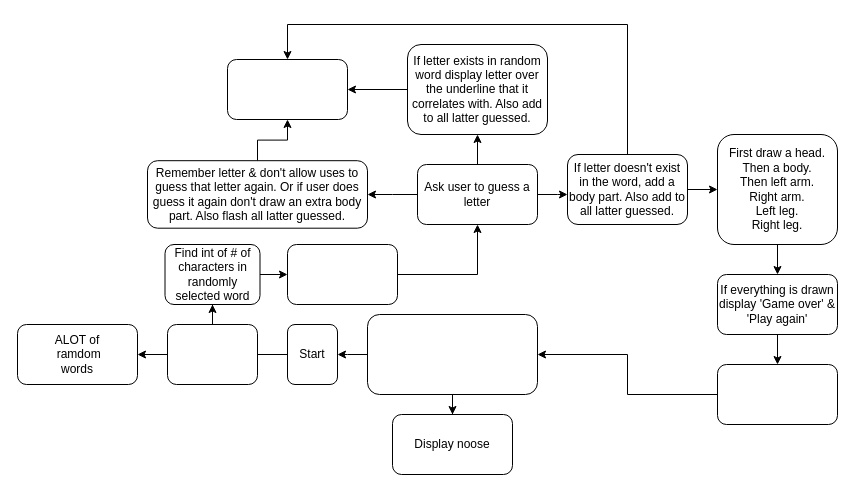
The diagram is 855 pixels wide and 492 high, and some of its shapes have lost their labels. The box of each missing label's shape, as (x1, y1, x2, y2) in pixels:
All letter guessed.: (226, 58, 348, 120)
Choose one: (166, 324, 258, 384)
Display the number of characters as line underneath the noose: (286, 244, 398, 304)
Hangman Flowchart: (366, 314, 538, 394)
Play again: Reset game.: (716, 364, 838, 424)
